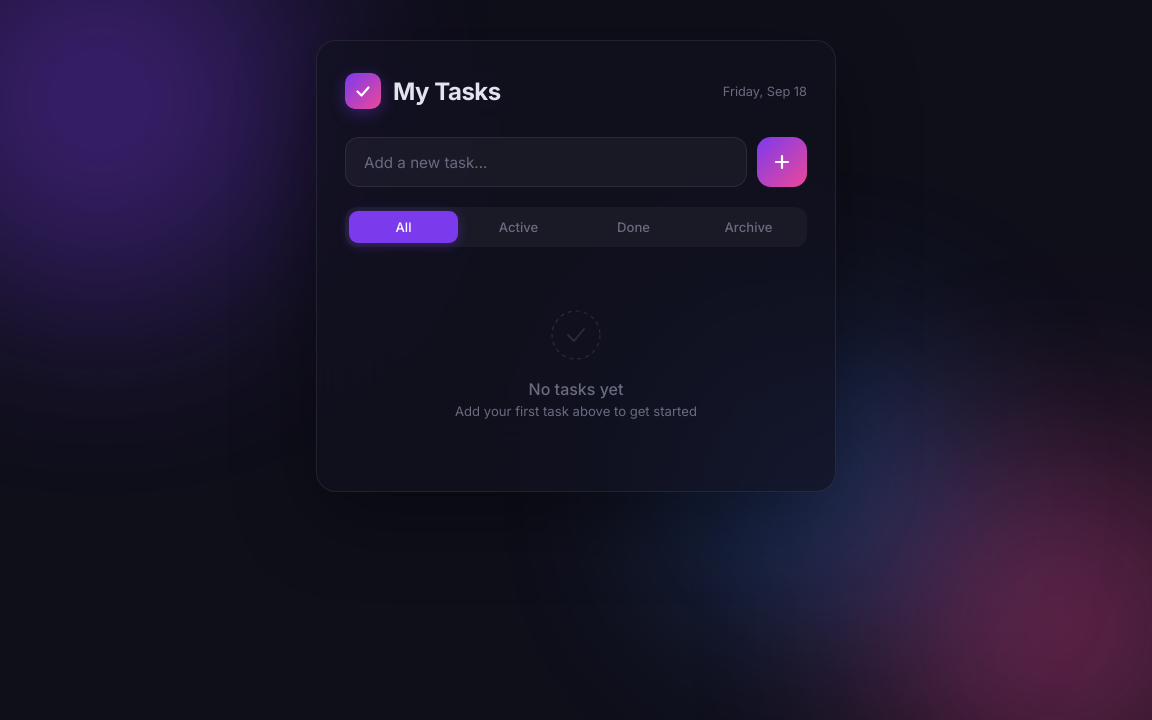
App › adds a new todo
In the field with placeholder "Add a new task...": (546, 162) top-left (345, 137), bottom-right (747, 187), type "Buy groceries"
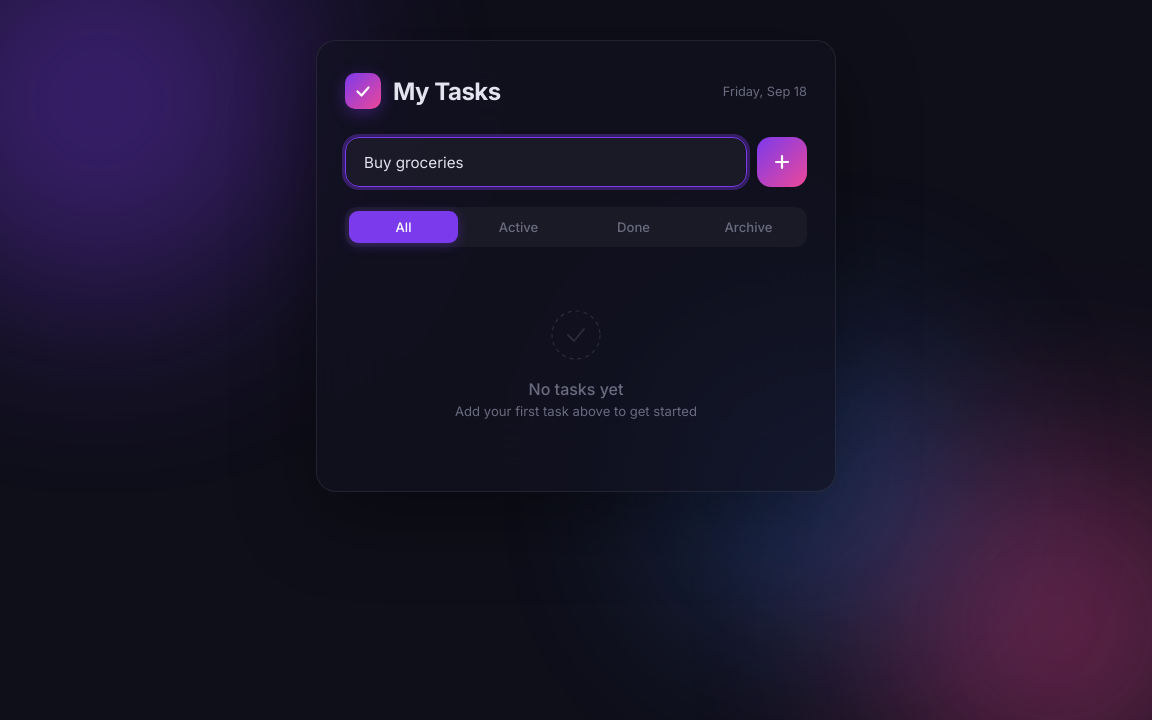
Click the button named "Add task": (782, 162) top-left (757, 137), bottom-right (807, 187)
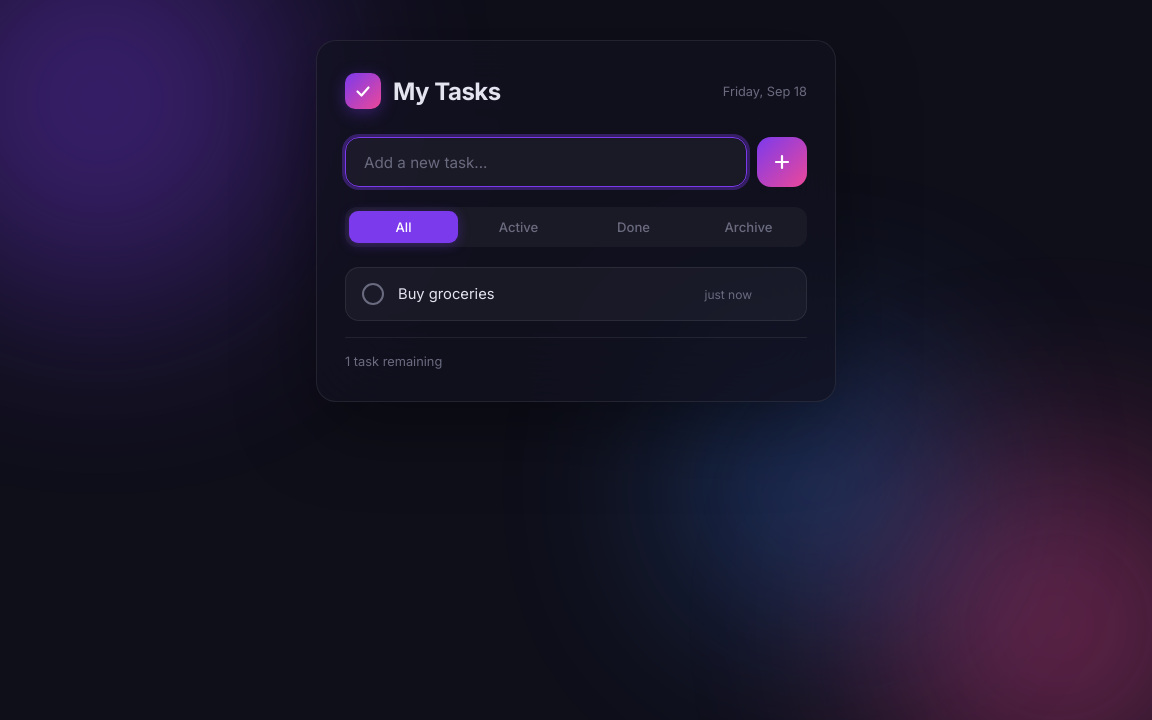
Result: the text "Buy groceries" is shown at top-left (398, 285), bottom-right (494, 303)
Result: the checkbox "Buy groceries" is shown at top-left (345, 267), bottom-right (807, 321)
Result: the text "just now" is shown at top-left (704, 286), bottom-right (752, 302)
